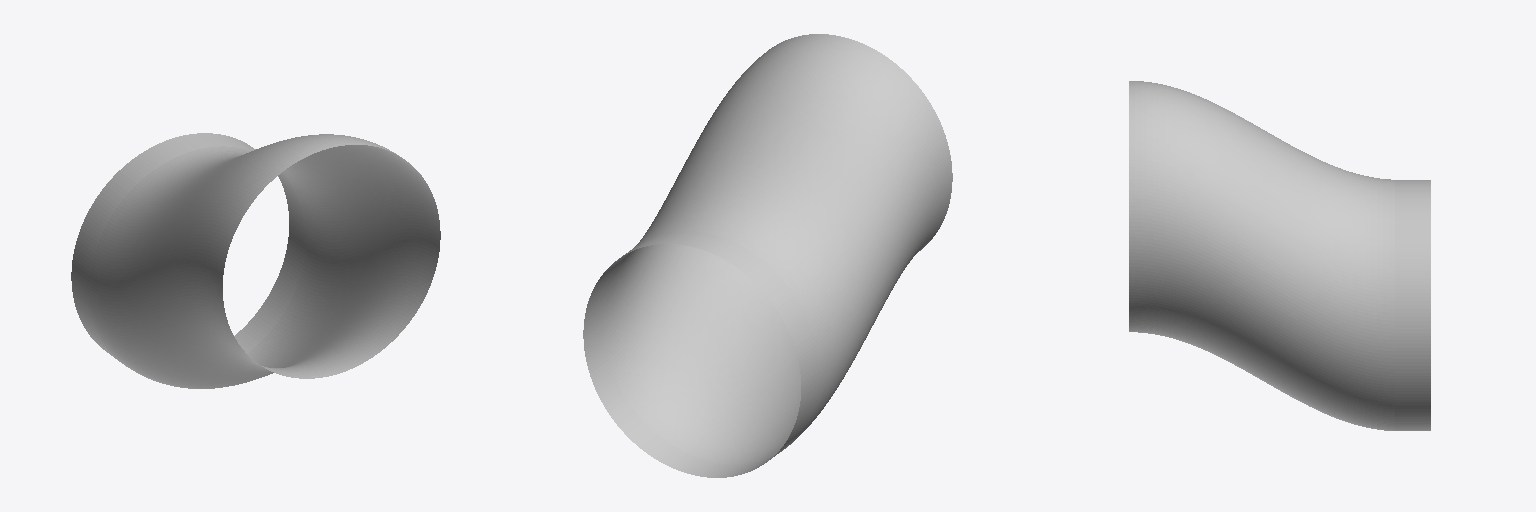
The model's file is tunnel_base_upturned.obj.
3 views of the same model, side by side, from view 1: azimuth 30°, elevation 25°; view 2: azimuth 150°, elevation 25°; view 3: azimuth 270°, elevation 25° (orthographic).
Visible parts, largest first — view 1: pCylinder1; view 2: pCylinder1; view 3: pCylinder1.
Boxes of the visible parts, <box> form: pCylinder1: <box>71,133,440,388</box>; pCylinder1: <box>583,34,952,477</box>; pCylinder1: <box>1129,81,1430,430</box>.
Bounding box in the file's own units: 4.26 × 6.11 × 5.13.